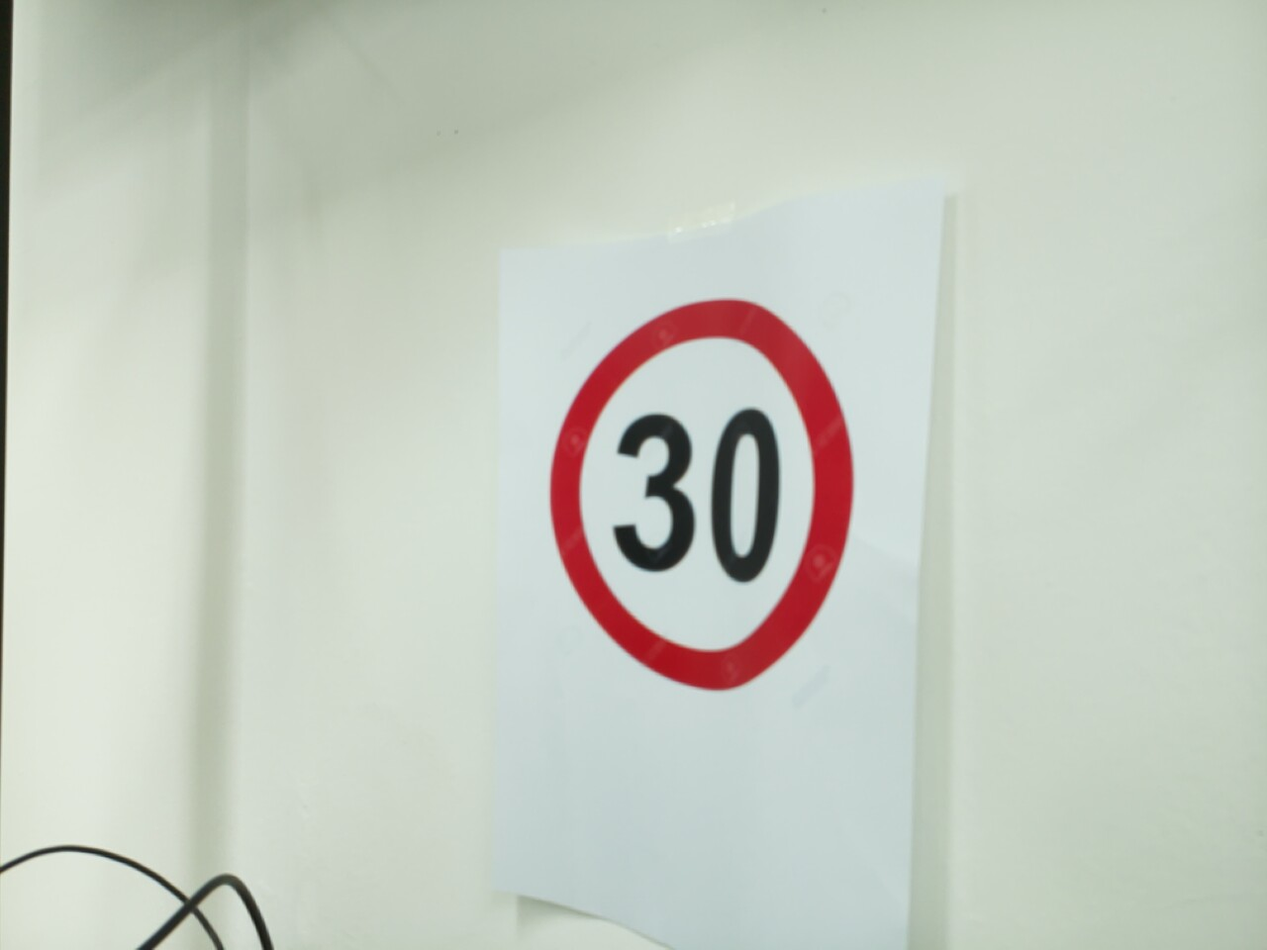speed_30: (540, 288, 863, 703)
